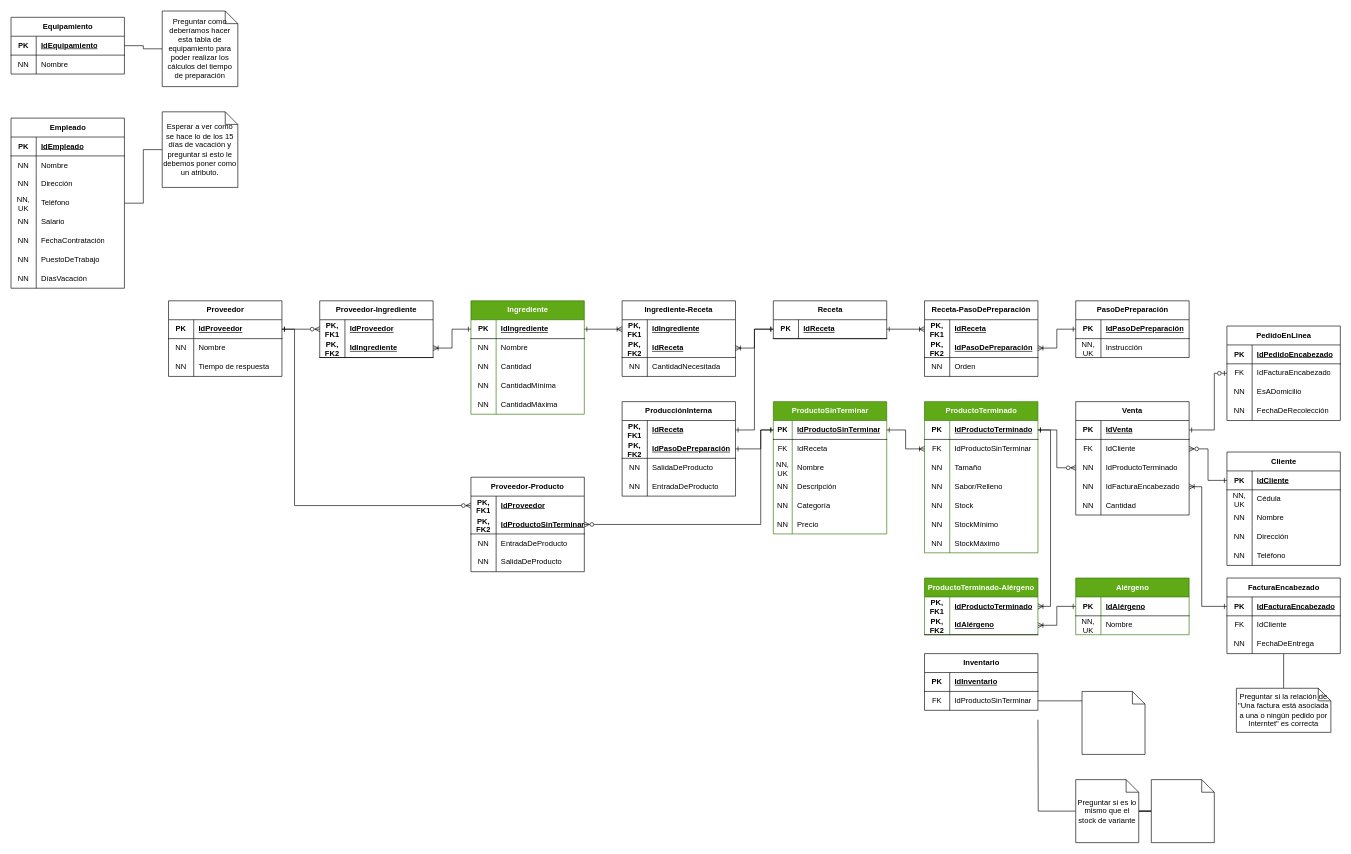
The diagram is 1351 pixels wide and 854 high, and some of its shapes have lost their labels. Here are the shapes that lost their labels. From the top down, the centre of each, then its label:
At pixel 1113 722: "Preguntar si hace referencia a la tabla producto y no a la tabla variante".
At pixel 1182 811: "Preguntar si stock es lo mismo que cantidad disponible de producto".
